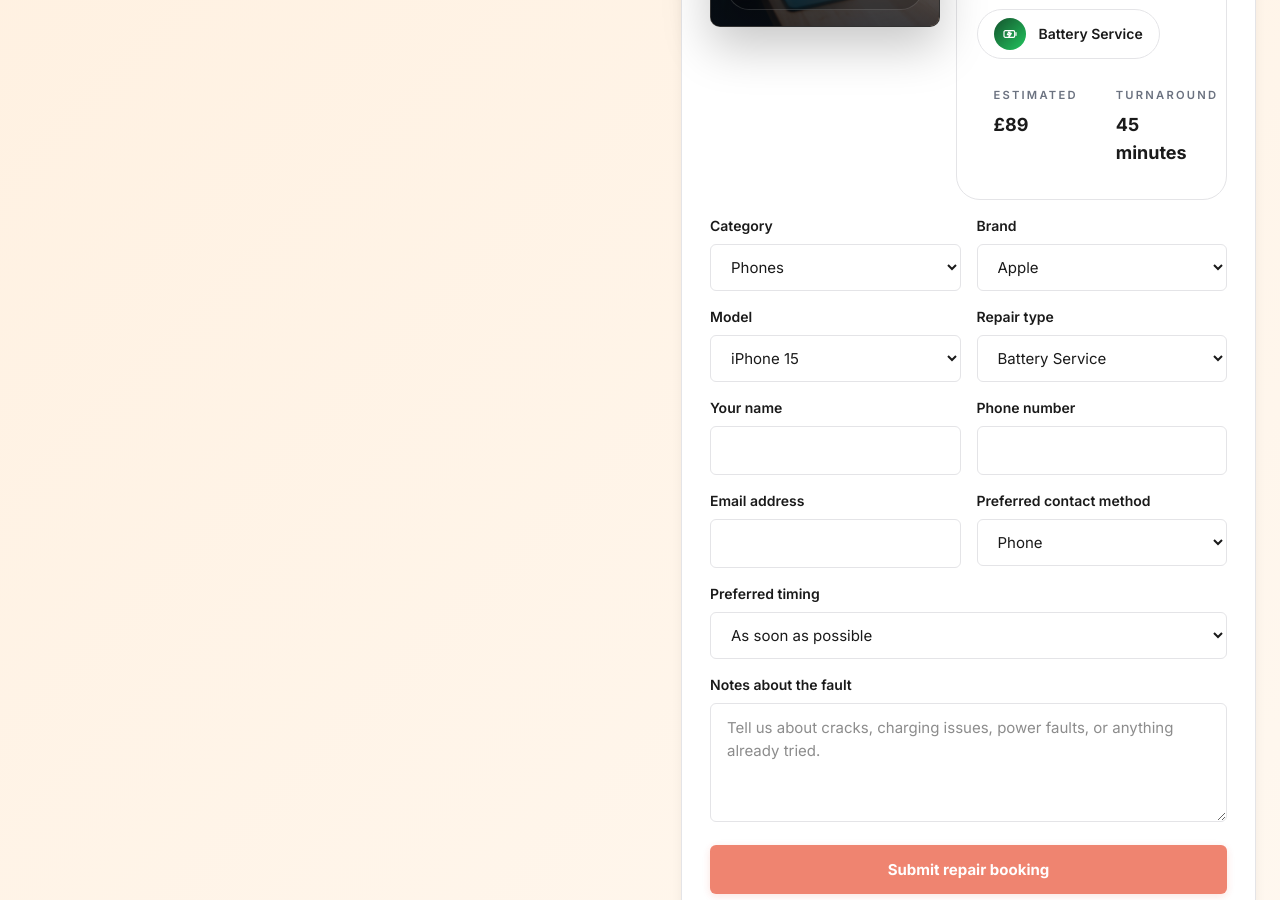
Test: BookRepair › submits a booking and stores it for the admin queue
The image size is (1280, 900).
(page scrolled)
Type "Kamran Test" into the field labelled "Your name" at (835, 450), box [710,426,960,475]
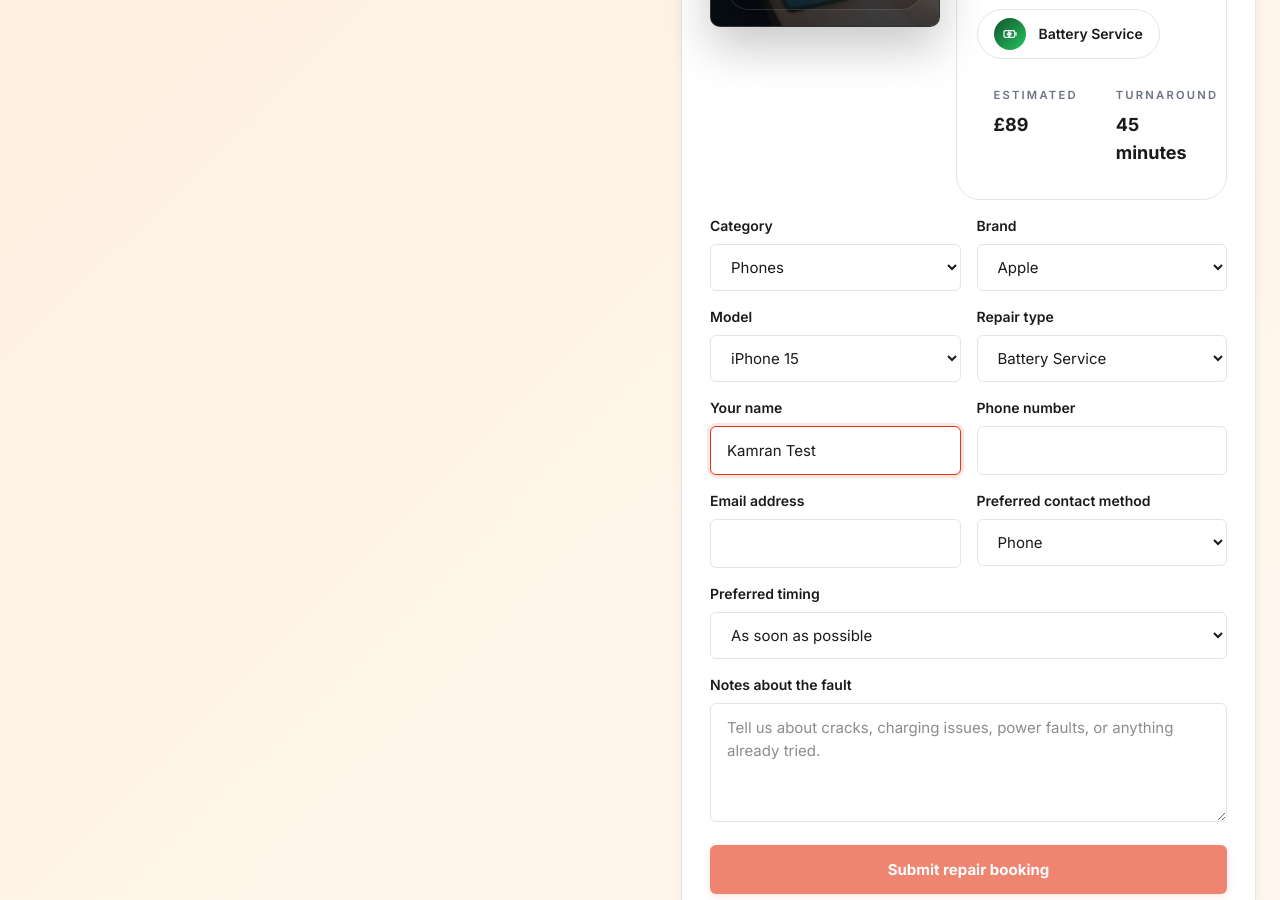
Type "07123456789" into the field labelled "Phone number" at (1102, 450), box [976,426,1227,475]
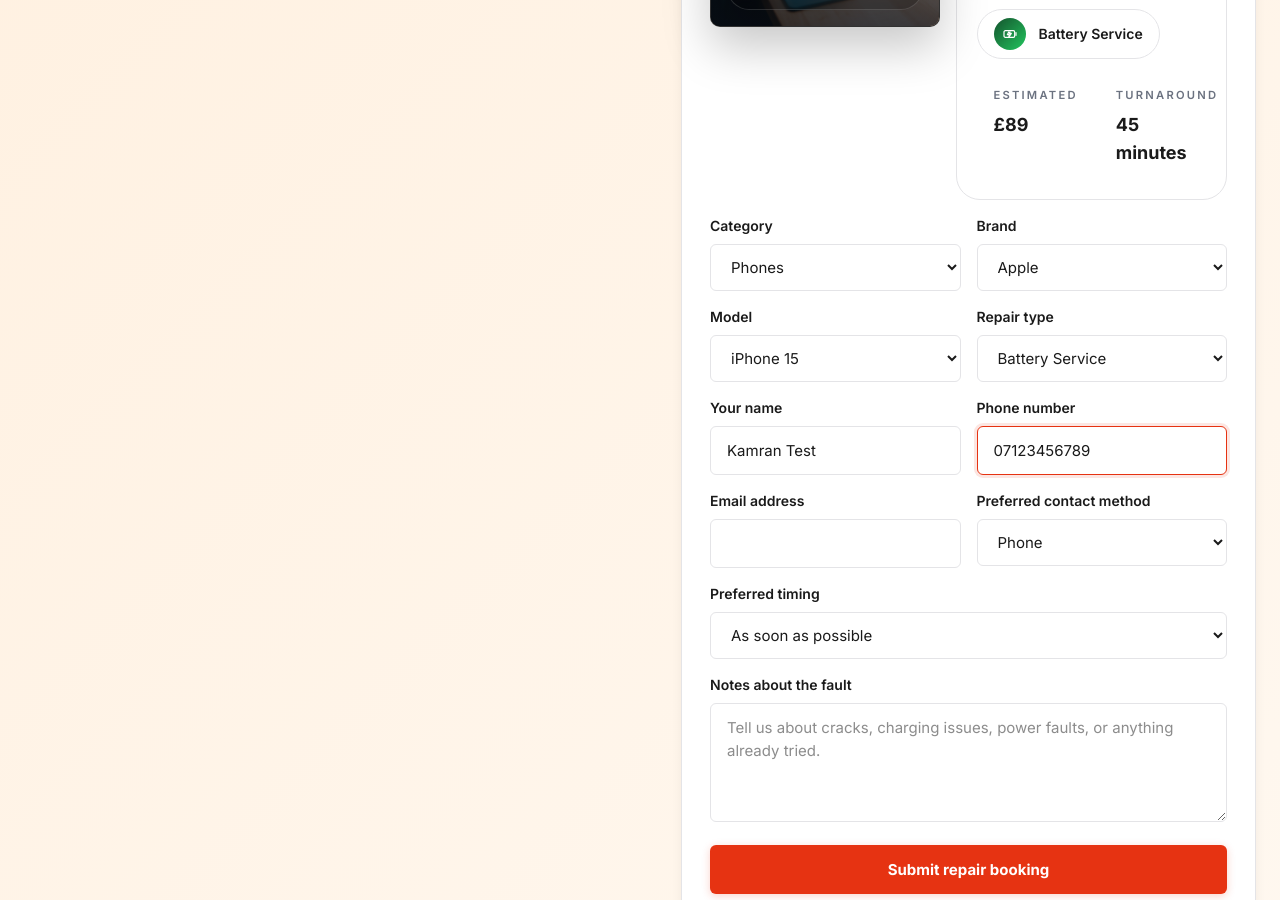
Click the button "Submit repair booking" at (968, 869), box [710,845,1227,894]
(page scrolled)
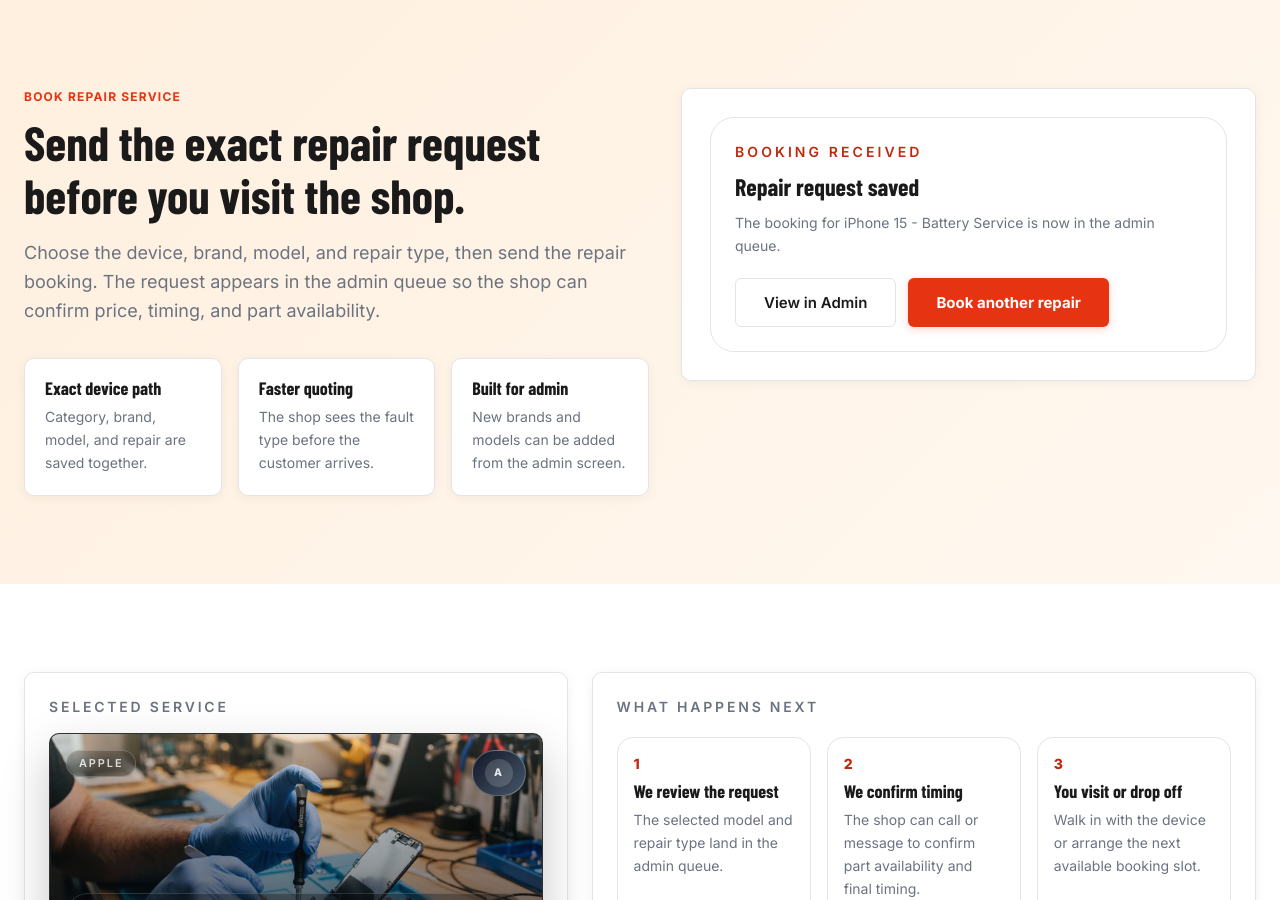
Result: the heading "Repair request saved" is shown at [735,172,919,201]
